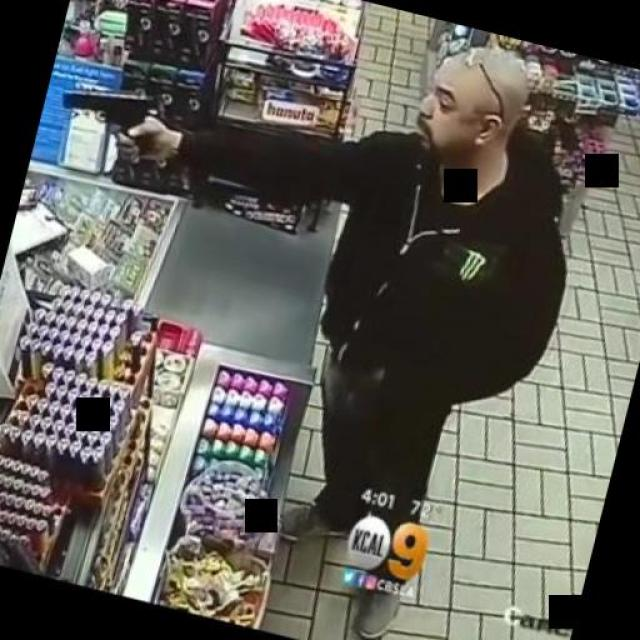gun: (46, 69, 176, 169)
